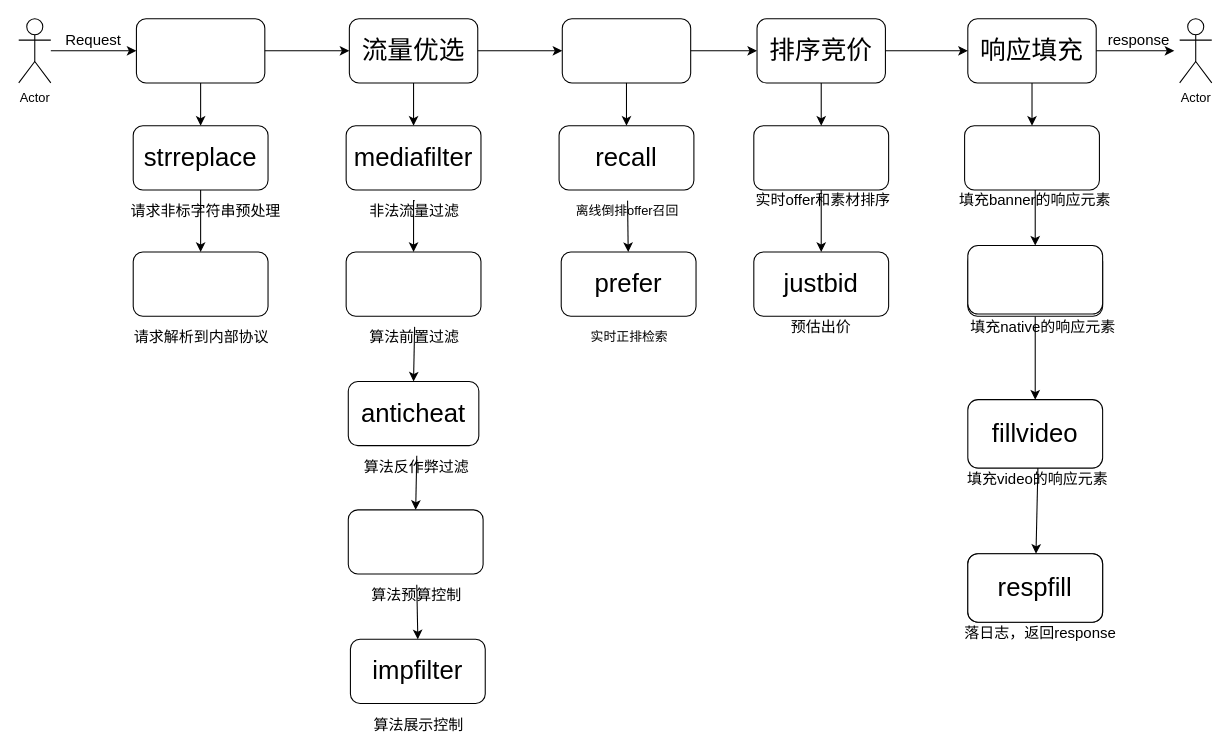
The diagram is 1231 pixels wide and 754 high, and some of its shapes have lost their labels. Each missing label, with the centre of its shape:
"budgetfilter" goes at [415,541].
"fillbanner" goes at [1031,157].
"fillnative" goes at [1035,279].
"rank" goes at [821,157].
"ReqParse" goes at [200,283].
"trafficfilter" goes at [413,283].
"召回检索" goes at [626,50].
"请求解析" goes at [200,50].
